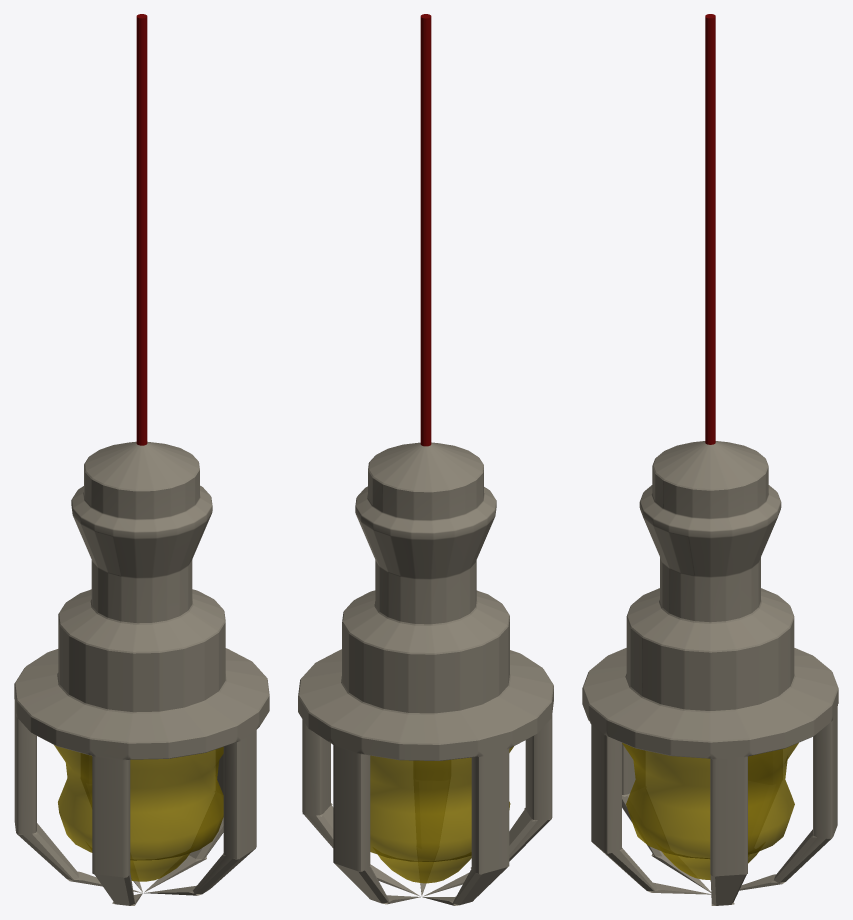
Rendered from hanging light.fbx.
The picture shows the model from 3 angles, left to right: view 1: azimuth 30°, elevation 25°; view 2: azimuth 150°, elevation 25°; view 3: azimuth 270°, elevation 25°; orthographic projection.
Parts seen in each view (by area): view 1: cage_light_hanging, bulb; view 2: cage_light_hanging, bulb; view 3: cage_light_hanging, bulb.
Part boxes in pixels (<box>): cage_light_hanging: <box>14,14,269,905</box>; bulb: <box>54,745,223,881</box>; cage_light_hanging: <box>298,14,553,905</box>; bulb: <box>370,746,513,883</box>; cage_light_hanging: <box>582,14,838,905</box>; bulb: <box>622,743,798,880</box>.
Bounding box in the file's own units: 22.75 × 85.96 × 22.75.
